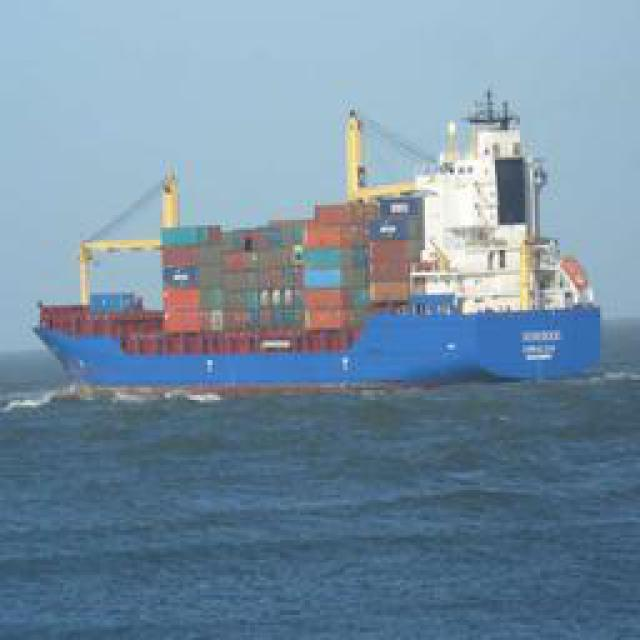Ship: (37, 84, 600, 397)
